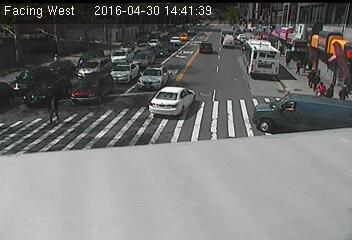neg: (67, 54, 84, 77), (121, 114, 132, 129)
pos: (292, 62, 300, 73)
